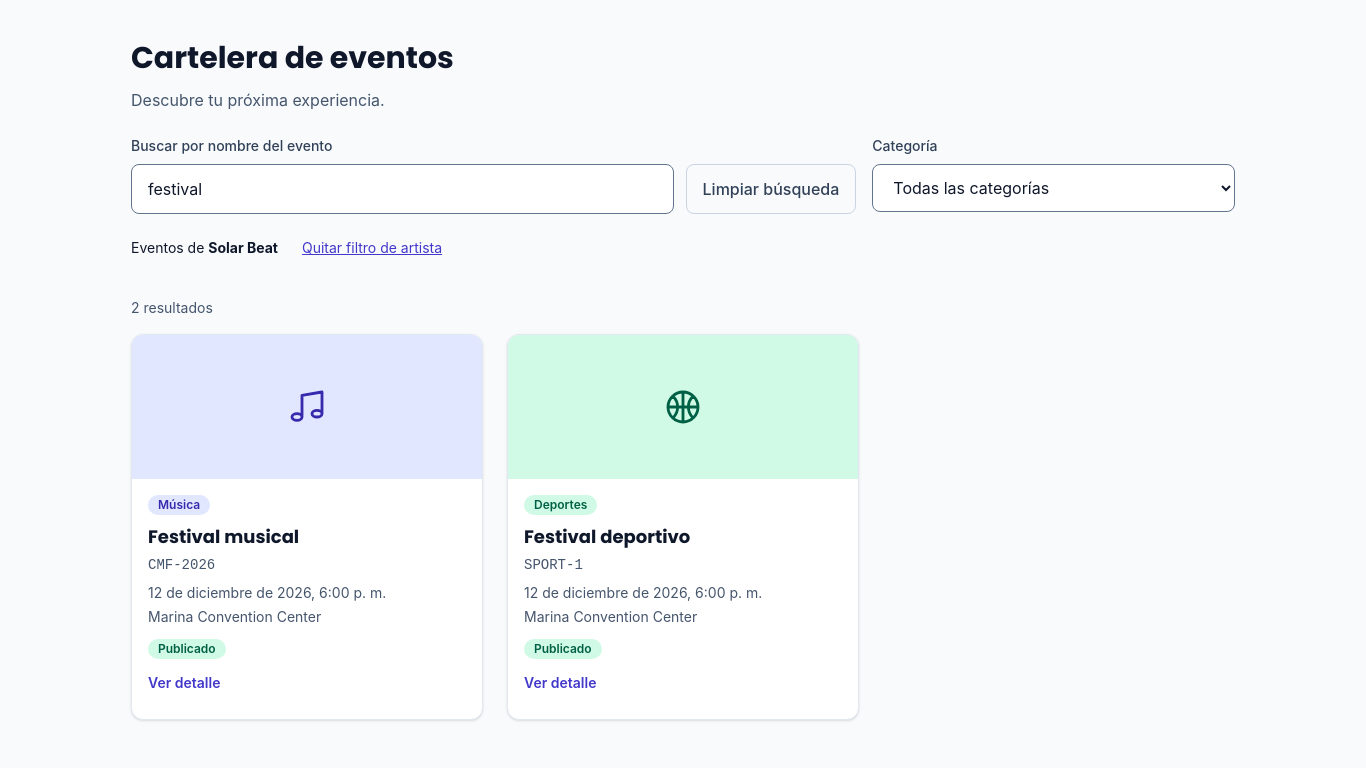
it: CatalogoEventos › combina categoría, texto y artista en cliente conservando los otros parámetros
Expected: the heading "Festival musical" is shown, [148,523,299,551]
Select "Deportes" in the dropdown labelled "Categoría" at coordinates (1054, 188), box [872,164,1235,212]
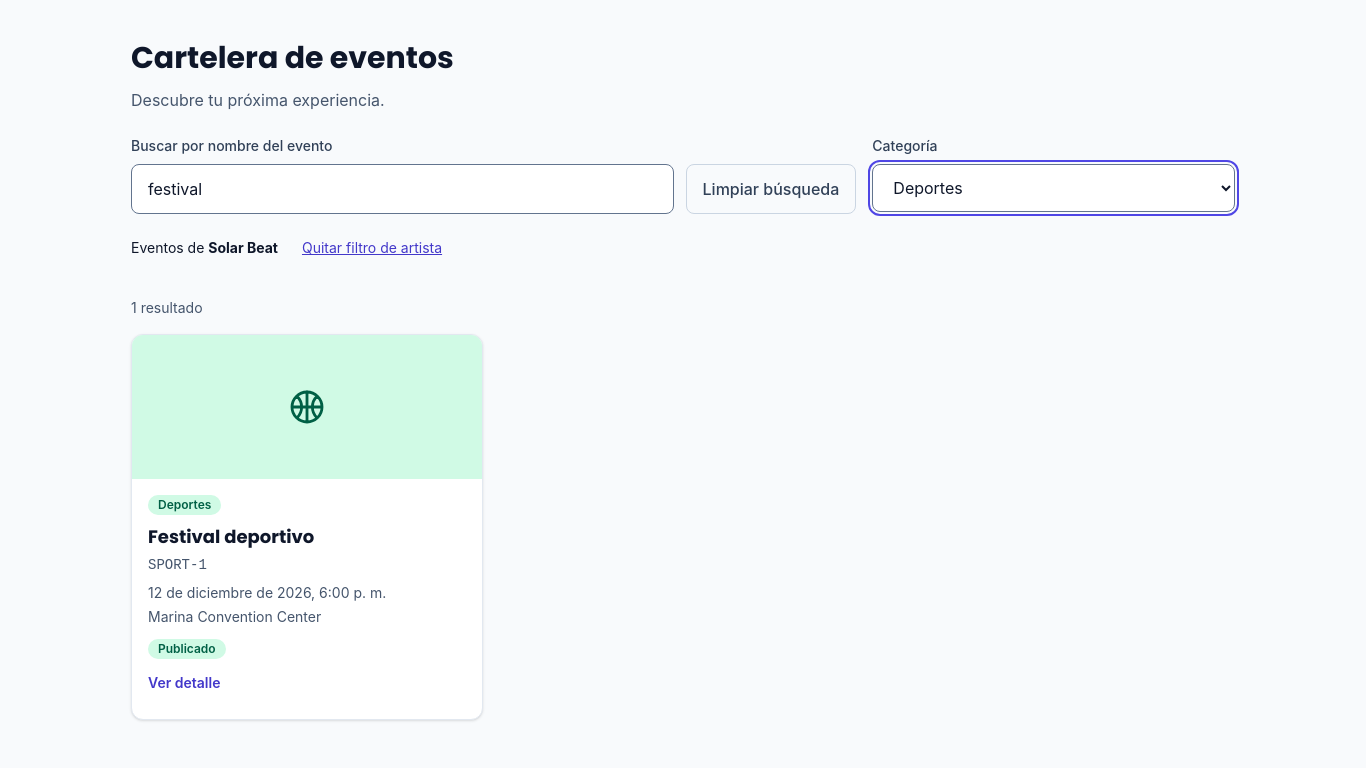
Expected: the heading "Festival deportivo" is shown, [148,523,314,551]
Result: the heading "Festival musical" is gone
Result: the text "1 resultado" is shown at [131,299,203,316]
Select "Todas las categorías" in the dropdown labelled "Categoría" at coordinates (1054, 188), box [872,164,1235,212]
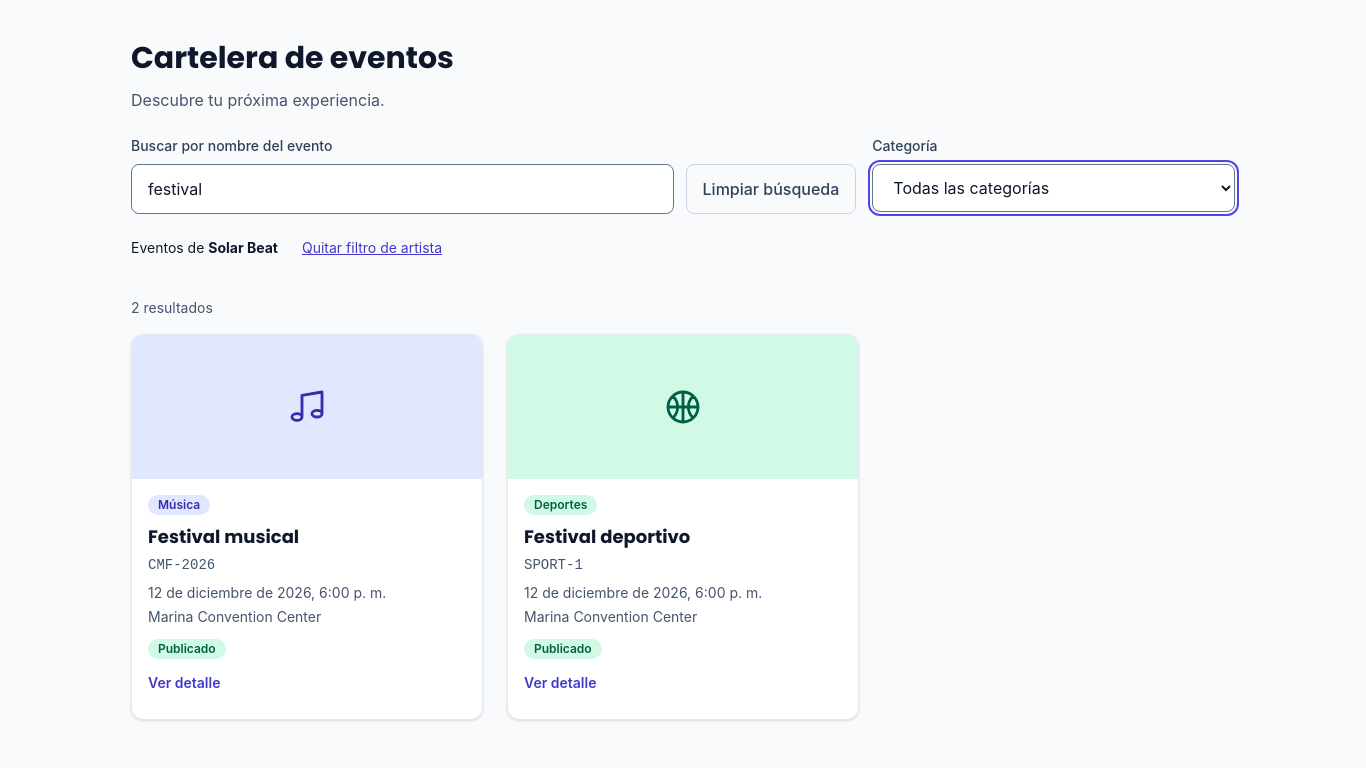
Expected: the search field holds "festival", [131,164,674,214]
Result: the text "2 resultados" is shown at [131,299,213,316]
